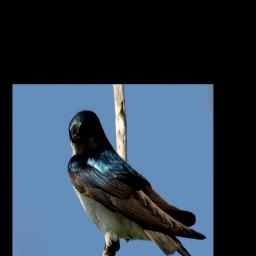Swallow: (67, 110, 208, 256)
